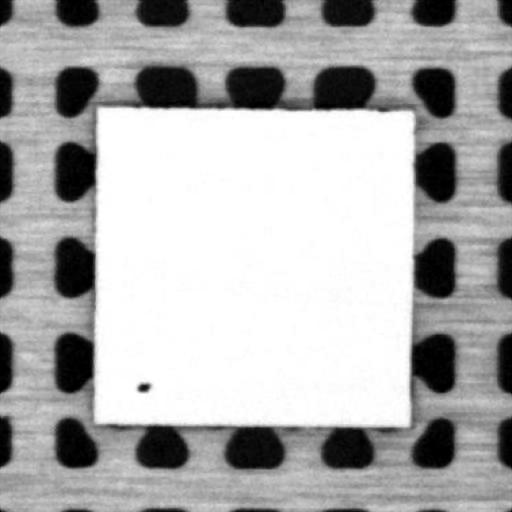DIE_INK: (137, 381, 152, 392)
